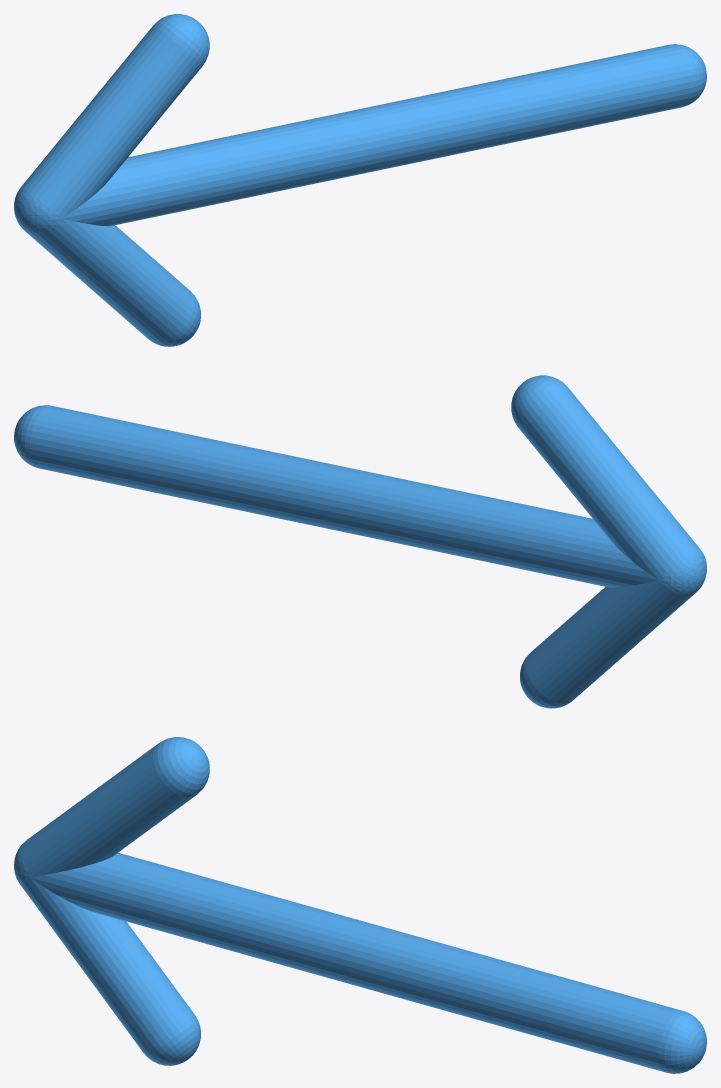
File: arrow.glb
3 renders of one model, top to bottom at view 1: azimuth 30°, elevation 25°; view 2: azimuth 150°, elevation 25°; view 3: azimuth 330°, elevation 25°, orthographic.
Visible parts, largest first — view 1: Sphere.002; view 2: Sphere.002; view 3: Sphere.002.
Part boxes in pixels (left/top/right/bottom): Sphere.002: left=14, top=14, right=706, bottom=346; Sphere.002: left=14, top=375, right=706, bottom=708; Sphere.002: left=14, top=737, right=706, bottom=1073.
Bounding box in the file's own units: 0.1936 × 0.0878 × 0.0159.
